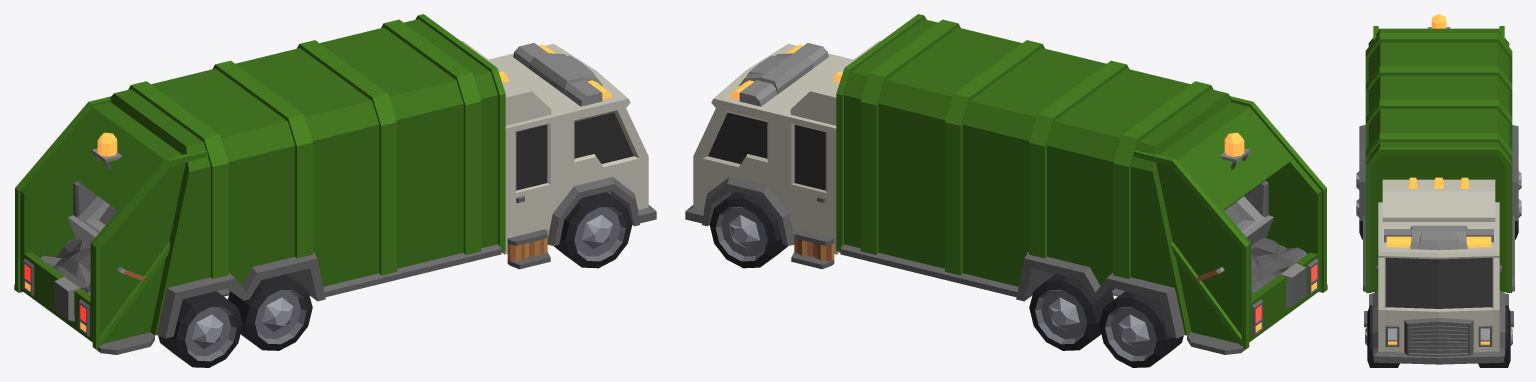
File: car_garbage.fbx
3 renders of one model, left to right at view 1: azimuth 30°, elevation 25°; view 2: azimuth 150°, elevation 25°; view 3: azimuth 270°, elevation 25°, orthographic. The views are drawn at different scales.
Parts seen in each view (by area): view 1: car_garbage, car_garbage_wheels_B1, car_garbage_wheels_B2, car_garbage_wheels_F, car_garbage_trash; view 2: car_garbage, car_garbage_wheels_B1, car_garbage_wheels_B2, car_garbage_wheels_F, car_garbage_trash; view 3: car_garbage, car_garbage_wheels_F, car_garbage_wheels_B1.
Part boxes in pixels (left/top/right/bottom): car_garbage: left=14, top=14, right=656, bottom=354; car_garbage_wheels_B1: left=228, top=274, right=312, bottom=350; car_garbage_wheels_B2: left=158, top=291, right=242, bottom=367; car_garbage_wheels_F: left=554, top=192, right=632, bottom=268; car_garbage_trash: left=40, top=237, right=90, bottom=294; car_garbage: left=685, top=14, right=1327, bottom=354; car_garbage_wheels_B1: left=1029, top=274, right=1113, bottom=350; car_garbage_wheels_B2: left=1099, top=291, right=1183, bottom=367; car_garbage_wheels_F: left=709, top=192, right=787, bottom=268; car_garbage_trash: left=1251, top=238, right=1307, bottom=294; car_garbage: left=1359, top=14, right=1518, bottom=364; car_garbage_wheels_F: left=1365, top=305, right=1512, bottom=367; car_garbage_wheels_B1: left=1356, top=199, right=1521, bottom=239.
Bounding box in the file's own units: 1238 × 457 × 384.
